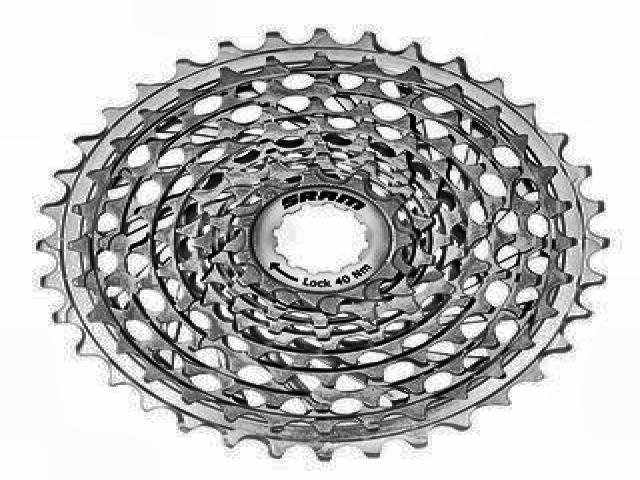cassette: (32, 26, 610, 465)
